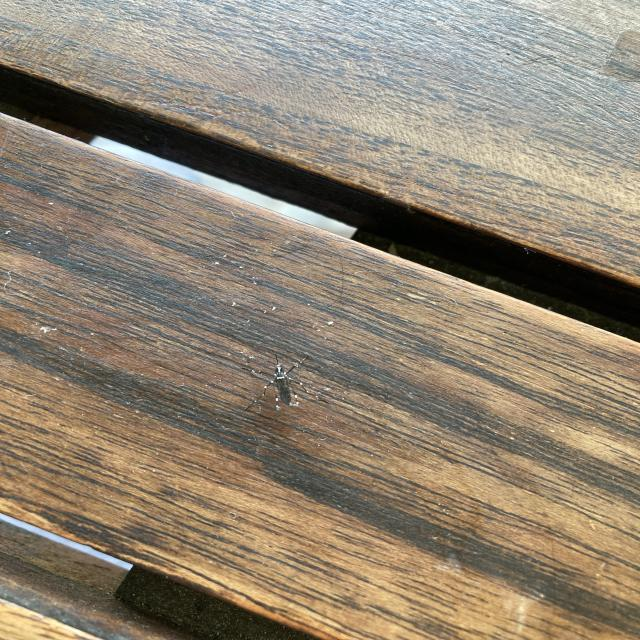albopictus: (231, 352, 323, 418)
